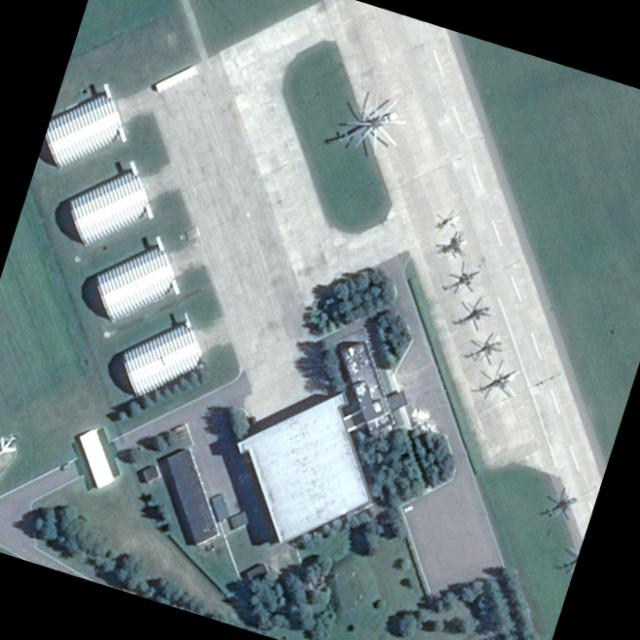plane: (0, 427, 26, 463)
